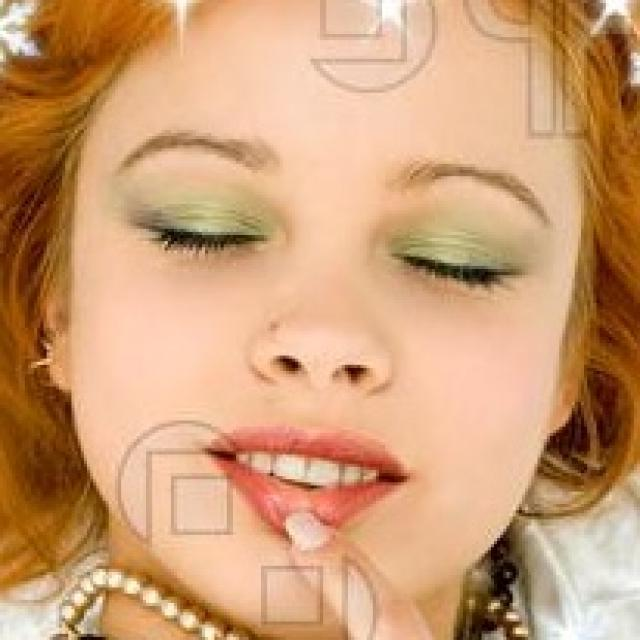close: (125, 110, 293, 278), (379, 156, 541, 302)
